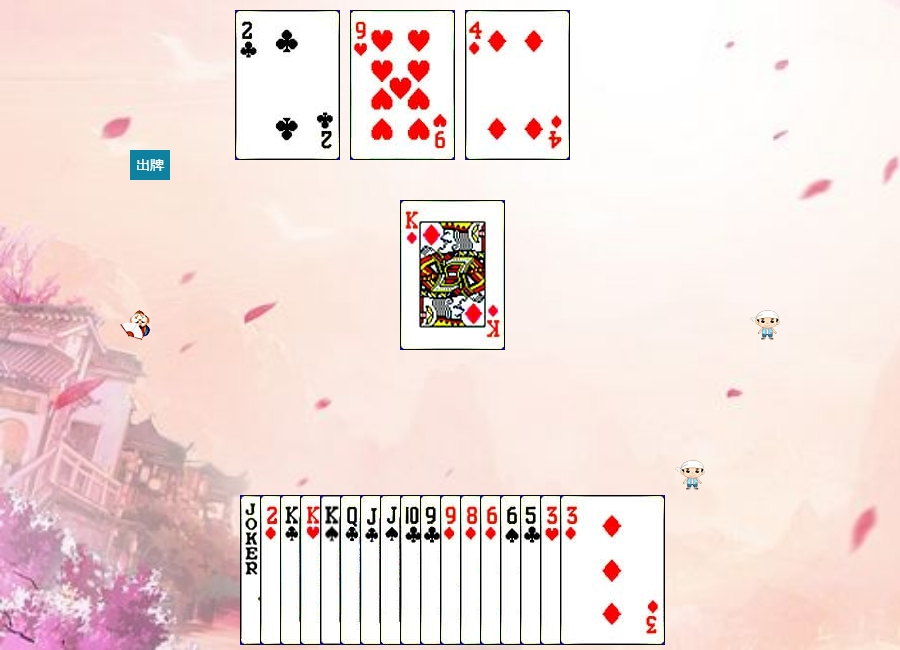10~2: (400, 495, 505, 645)
11~2: (360, 495, 465, 645)
11~4: (380, 495, 485, 645)
12~2: (340, 495, 445, 645)
13~1: (400, 200, 505, 350)
13~2: (280, 495, 385, 645)
13~3: (300, 495, 405, 645)
13~4: (320, 495, 425, 645)
15~1: (260, 495, 365, 645)
15~2: (235, 10, 340, 160)
17~3: (240, 495, 345, 645)
3~1: (560, 495, 665, 645)
3~3: (540, 495, 645, 645)
4~1: (465, 10, 570, 160)
5~2: (520, 495, 625, 645)
6~1: (480, 495, 585, 645)
6~4: (500, 495, 605, 645)
8~1: (460, 495, 565, 645)
9~1: (440, 495, 545, 645)
9~2: (420, 495, 525, 645)
9~3: (350, 10, 455, 160)
